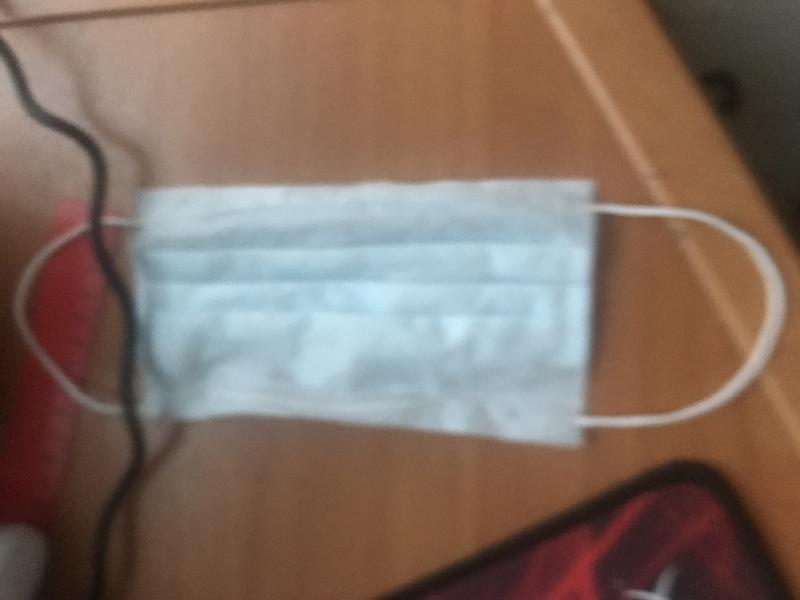medical_mask: (12, 182, 777, 451)
